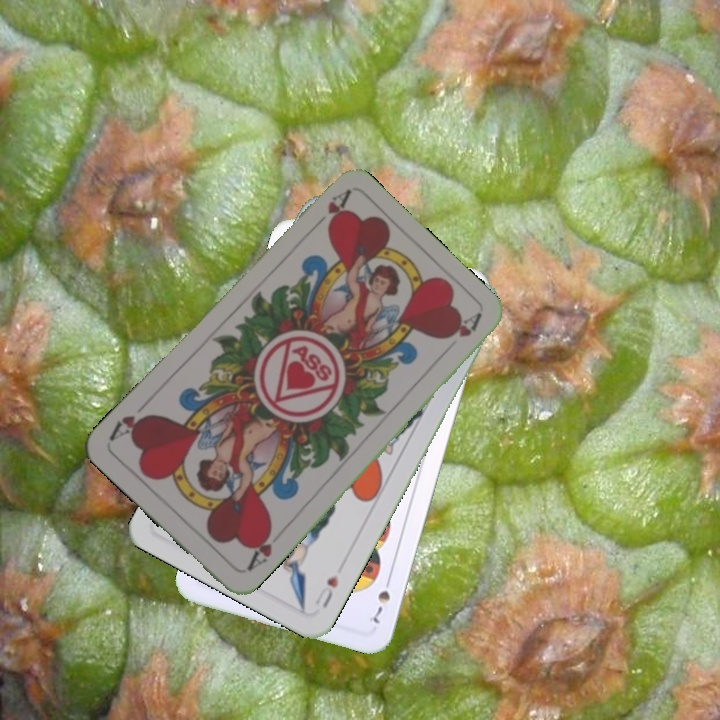HA: (305, 186, 353, 234), (242, 522, 275, 574)
HU: (311, 570, 341, 611)
S7: (369, 571, 394, 627)
